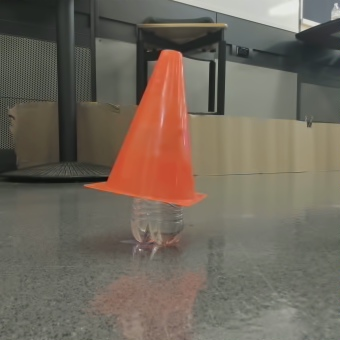Cone: (131, 42, 221, 185)
